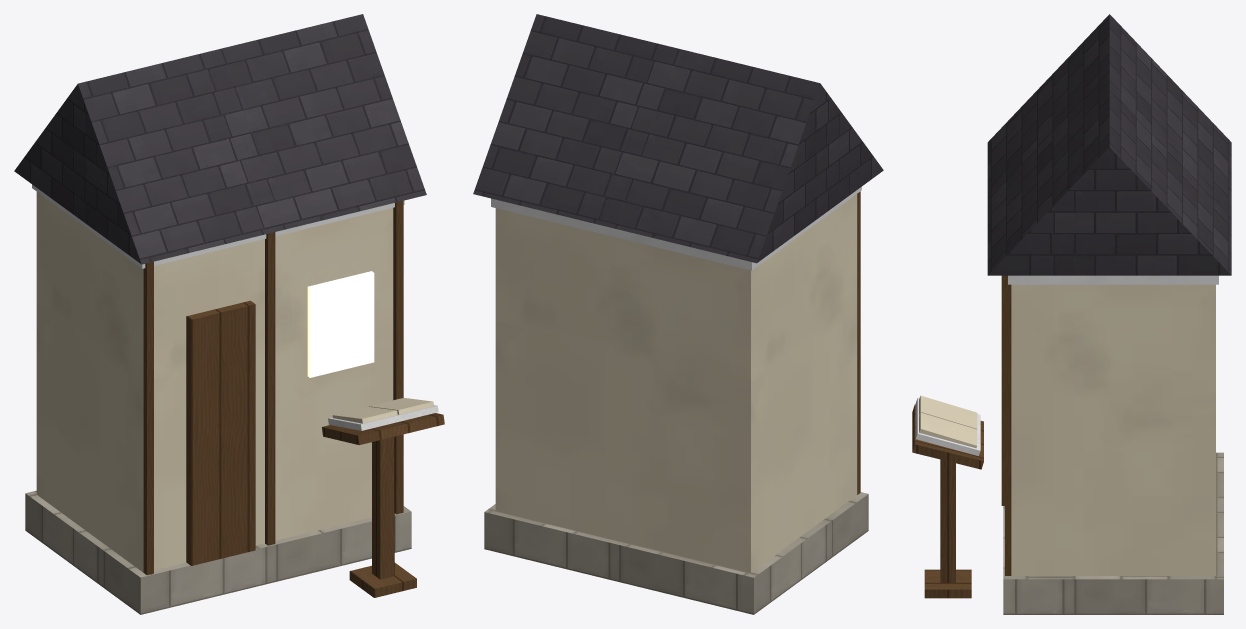
File: protocol.ens.glb
3 views of the same model, side by side, from view 1: azimuth 30°, elevation 25°; view 2: azimuth 150°, elevation 25°; view 3: azimuth 270°, elevation 25° (orthographic). The views are drawn at different scales.
Parts seen in each view (by area): view 1: building.protocol.ens; view 2: building.protocol.ens; view 3: building.protocol.ens.
Boxes of the visible parts, left/top/right/bottom form: building.protocol.ens: left=14, top=14, right=444, bottom=614; building.protocol.ens: left=473, top=14, right=883, bottom=614; building.protocol.ens: left=912, top=14, right=1231, bottom=614.
Bounding box in the file's own units: 2 × 3.3 × 2.03.
Materials: 7 (6 with a texture image).
